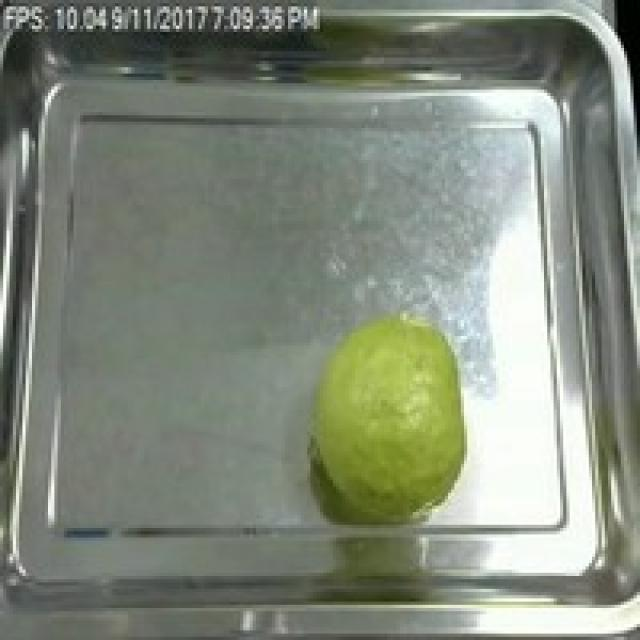Fruit: (301, 301, 480, 525)
